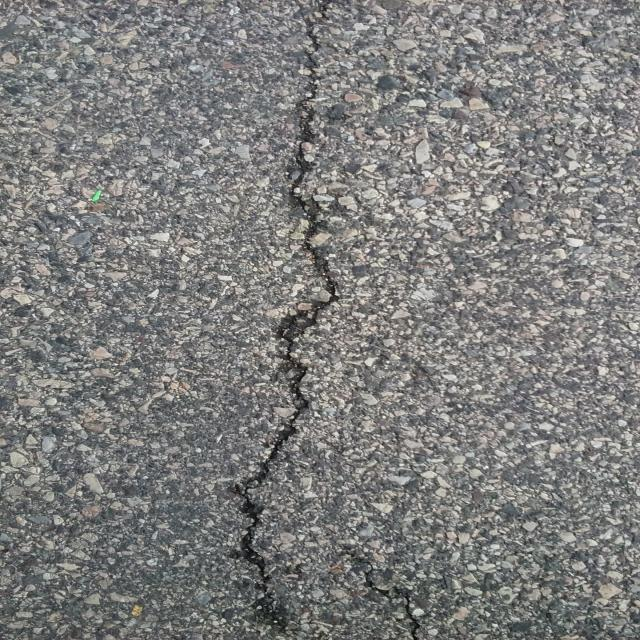Longitudial: (209, 0, 358, 640)
